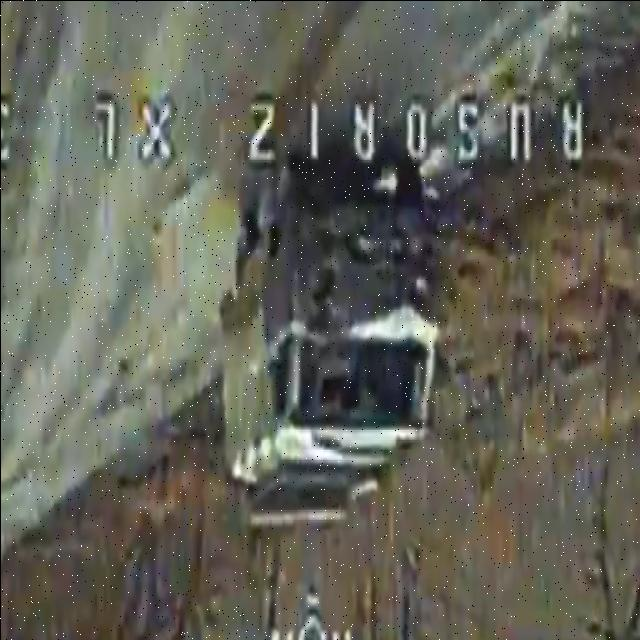CAR: (217, 160, 445, 539)
